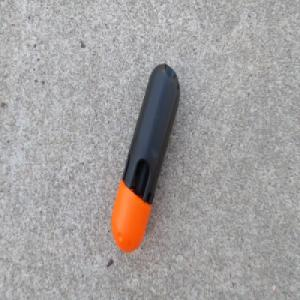PlasticPart: (111, 64, 182, 257)
